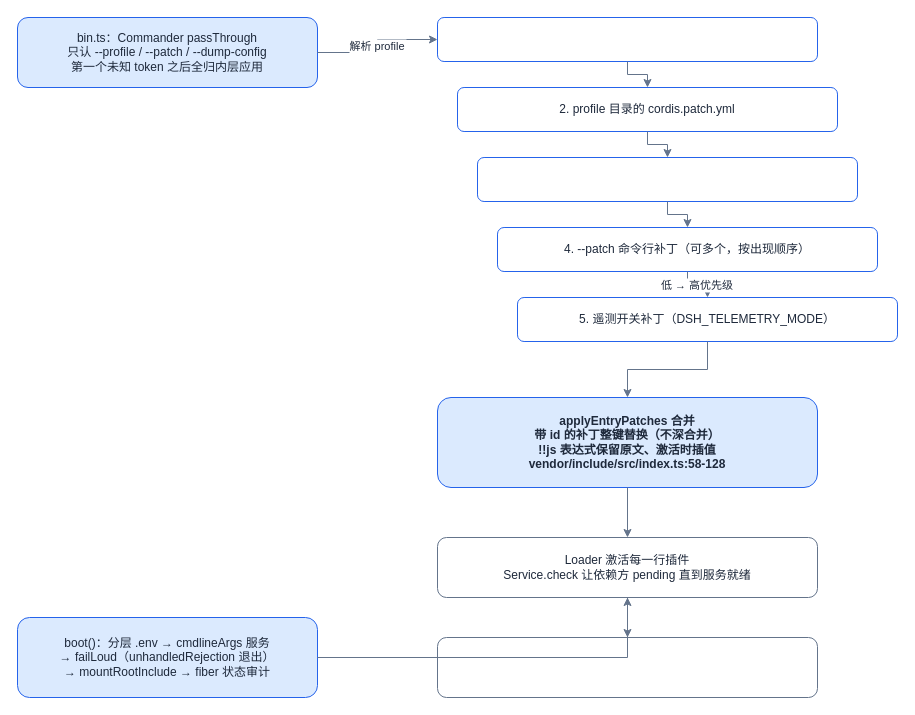
Image size: 915x715. Some labels were removed from this diagram. Here are the shapes that lost their labels. From the top down, the box of each, then its label:
(436, 16, 818, 62): 1. bundle 层（按 dsh.profile.bundles 顺序）
(476, 156, 858, 202): 3. $DSH_HOME/cordis.patch.yml（home 层）
(436, 636, 818, 698): 应用 provider：webStartup（拒绝 --host 0.0.0.0） headlessStartup（一次性任务跑完即退）
